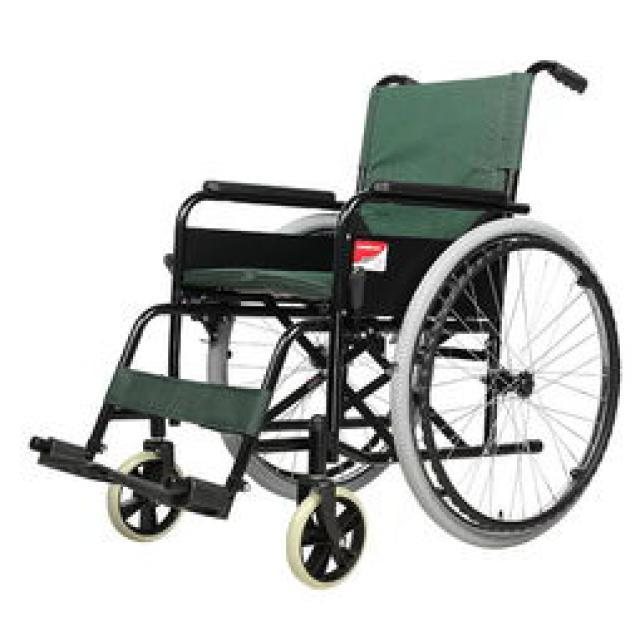wheelchair: (22, 53, 622, 590)
